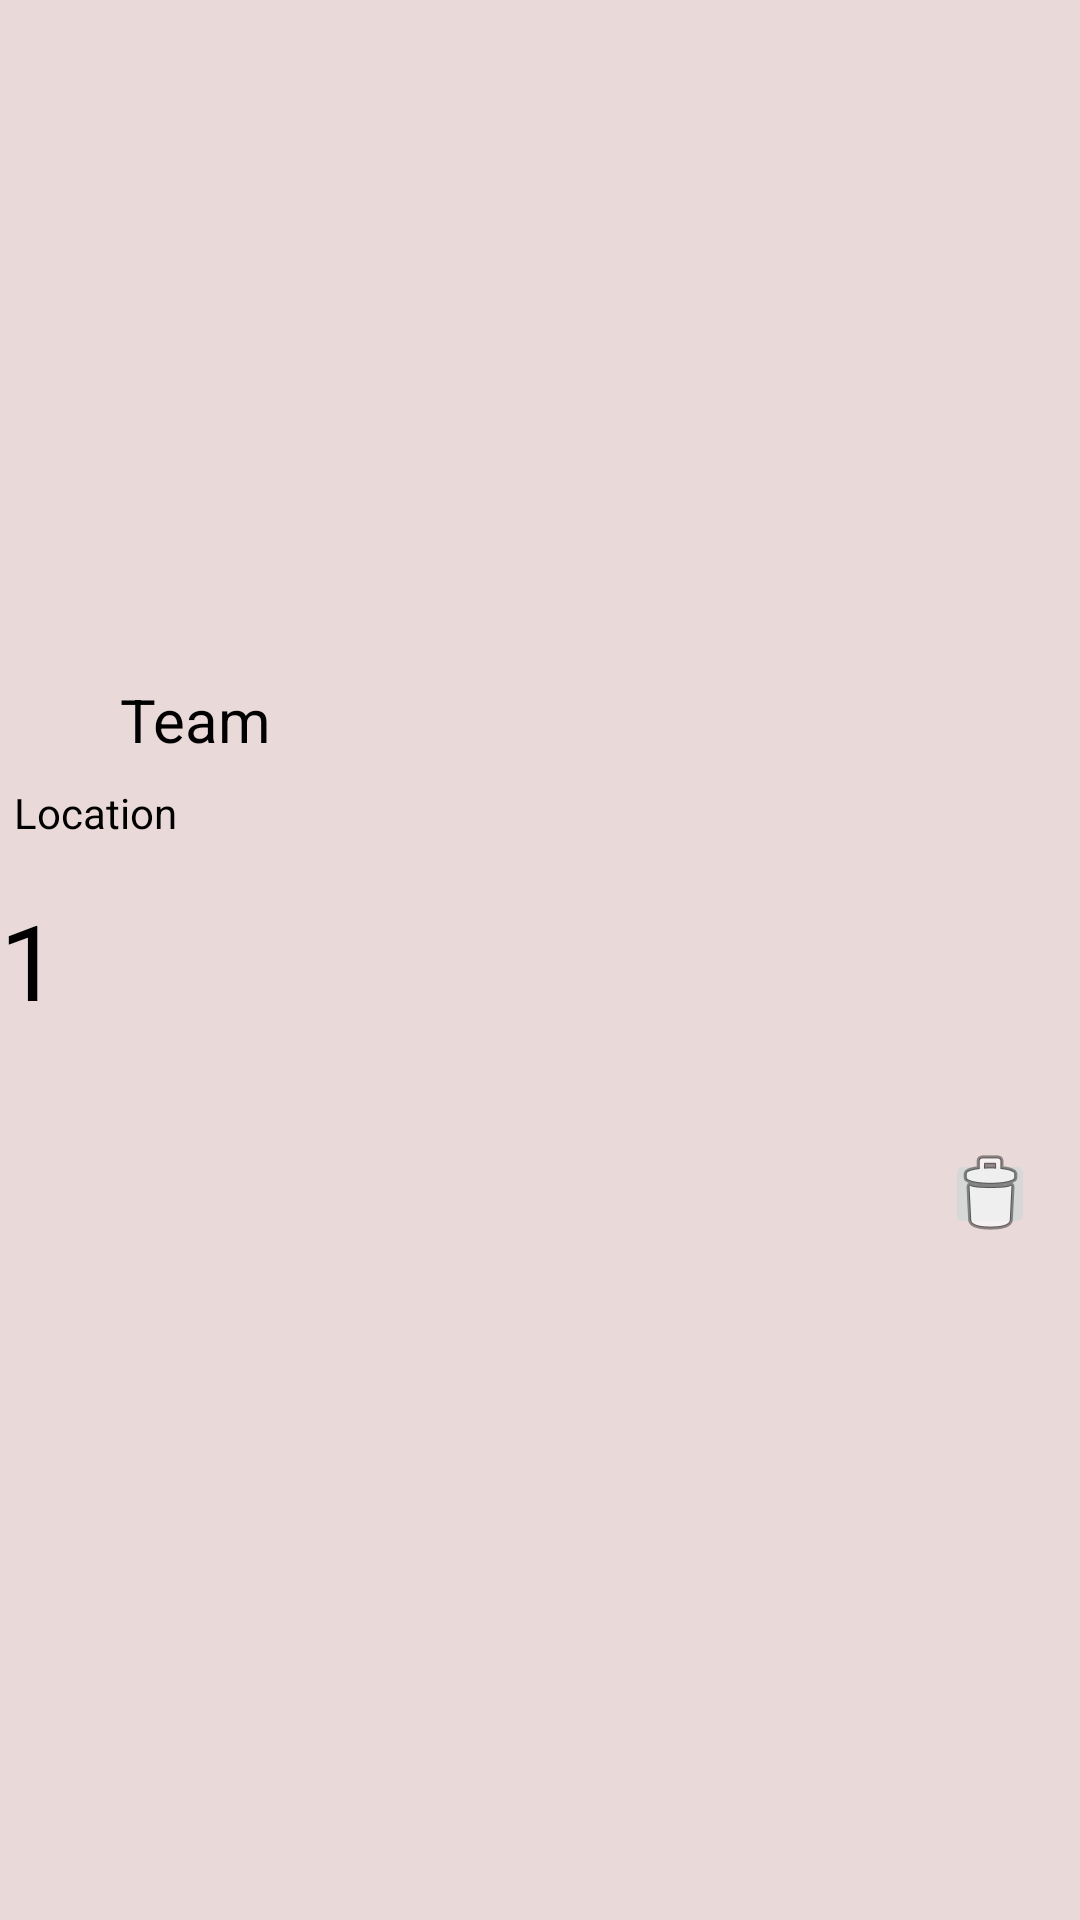

Named icons in this screenshot (1080px x 1920px) and their centers, point (x, y):
Delete Venue: point (990, 1192)
